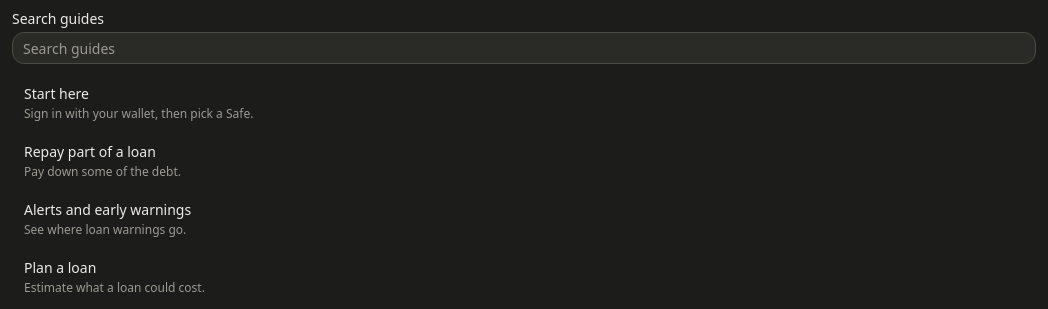
GuideTopicList › requires every word in the query to match
Type "repay loan" into the search field labelled "Search guides" at [524, 48], box 12,32 -> 1036,64
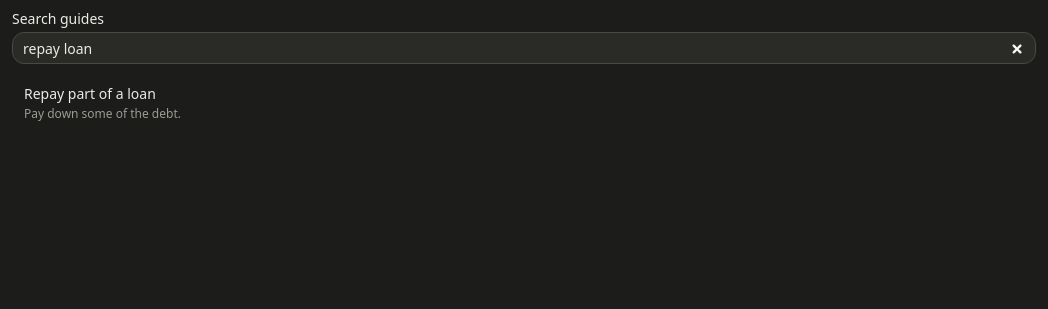
Result: the number of buttons is 1 at 12,76 -> 1036,130
